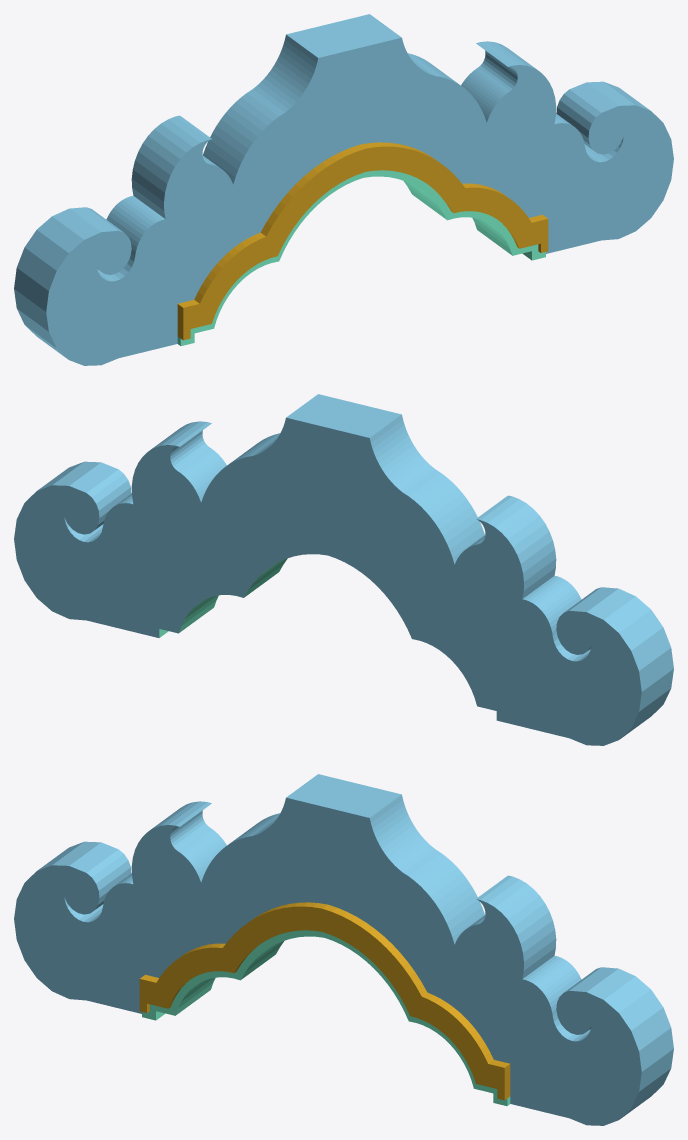
The model's file is Prop_Building_Eastern_Ornamental_Facade_Block_02.FBX.
The picture shows the model from 3 angles, top to bottom: view 1: azimuth 30°, elevation 25°; view 2: azimuth 150°, elevation 25°; view 3: azimuth 330°, elevation 25°; orthographic projection.
Visible parts, largest first — view 1: Prop_Building_Eastern_Ornamental_Facade_Block_02; view 2: Prop_Building_Eastern_Ornamental_Facade_Block_02; view 3: Prop_Building_Eastern_Ornamental_Facade_Block_02.
Part boxes in pixels (box(x1,y1,x2,y2)): Prop_Building_Eastern_Ornamental_Facade_Block_02: box(14, 14, 673, 365); Prop_Building_Eastern_Ornamental_Facade_Block_02: box(14, 394, 673, 745); Prop_Building_Eastern_Ornamental_Facade_Block_02: box(14, 774, 673, 1125).
Size of the model in its own units: 2797 by 1083 by 292.
